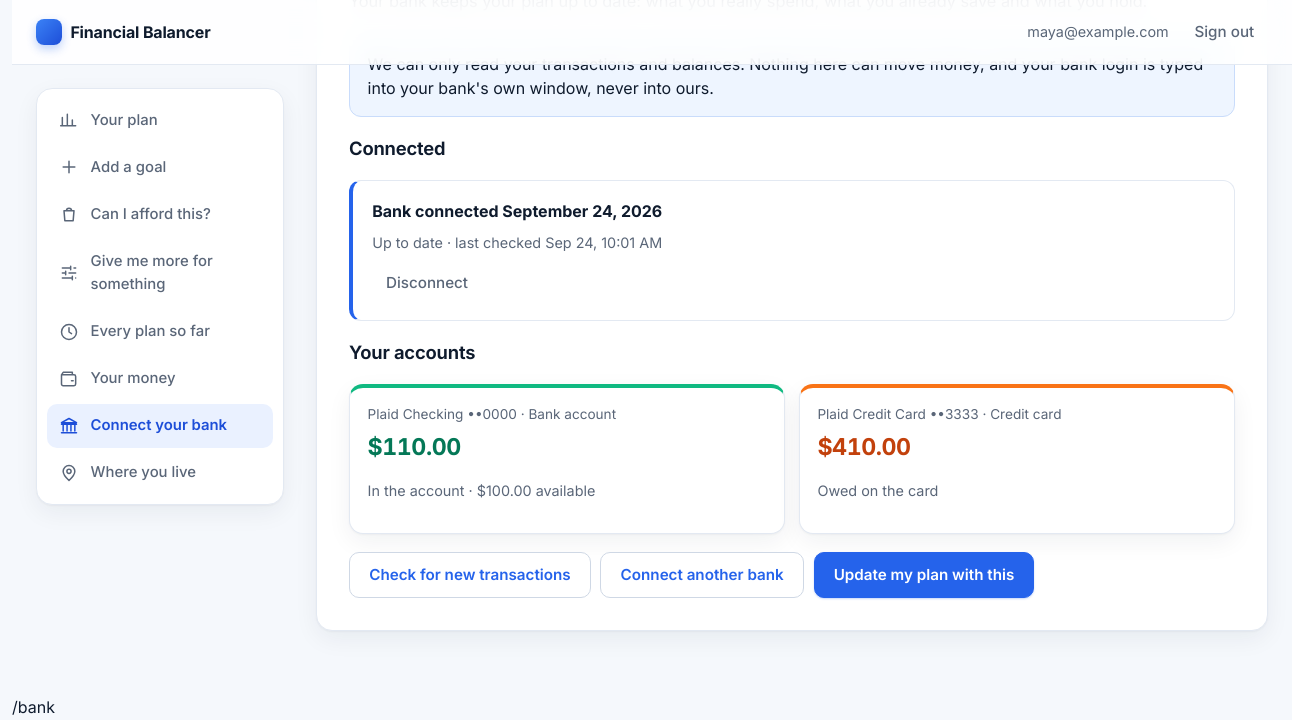
Test: a connected bank › updates the plan from what the bank shows and goes to it
(page scrolled)
Step 1. Click the button "Update my plan with this" → (924, 575), box [814,552,1034,598]
(page scrolled)
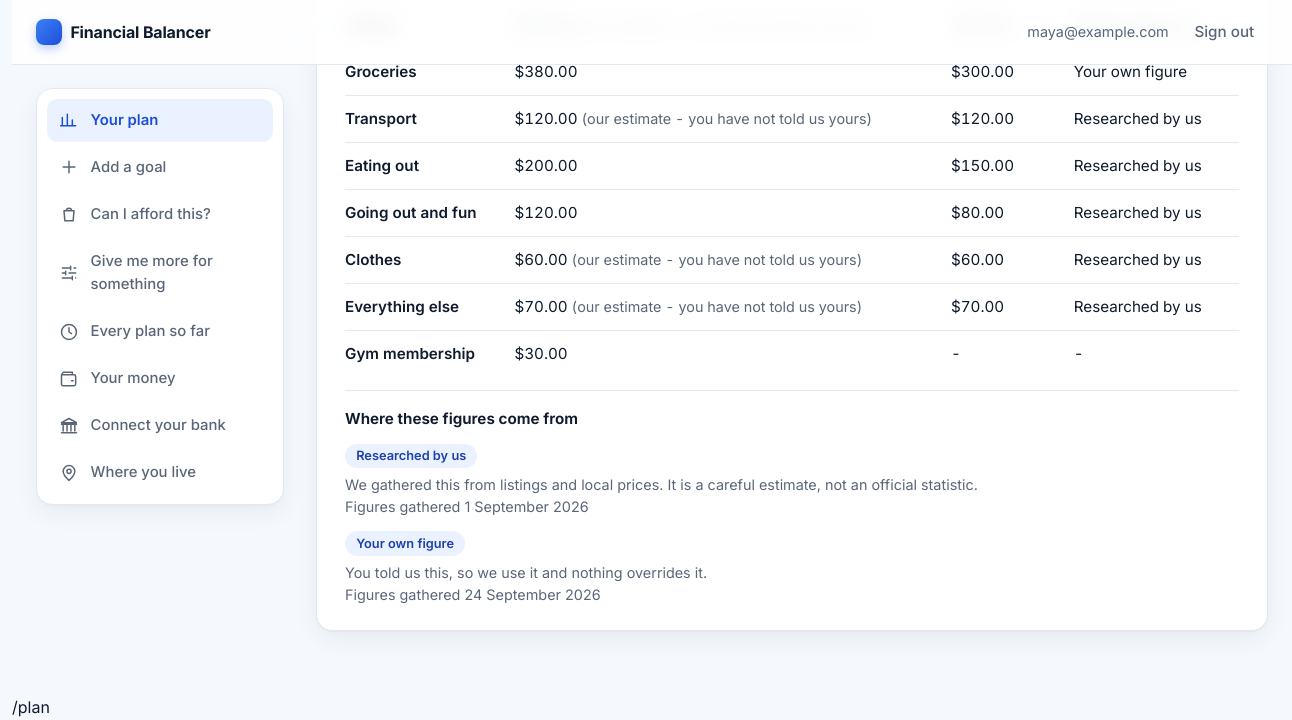
Result: the text with test id "path" reads "/plan" at [12,697,50,717]
